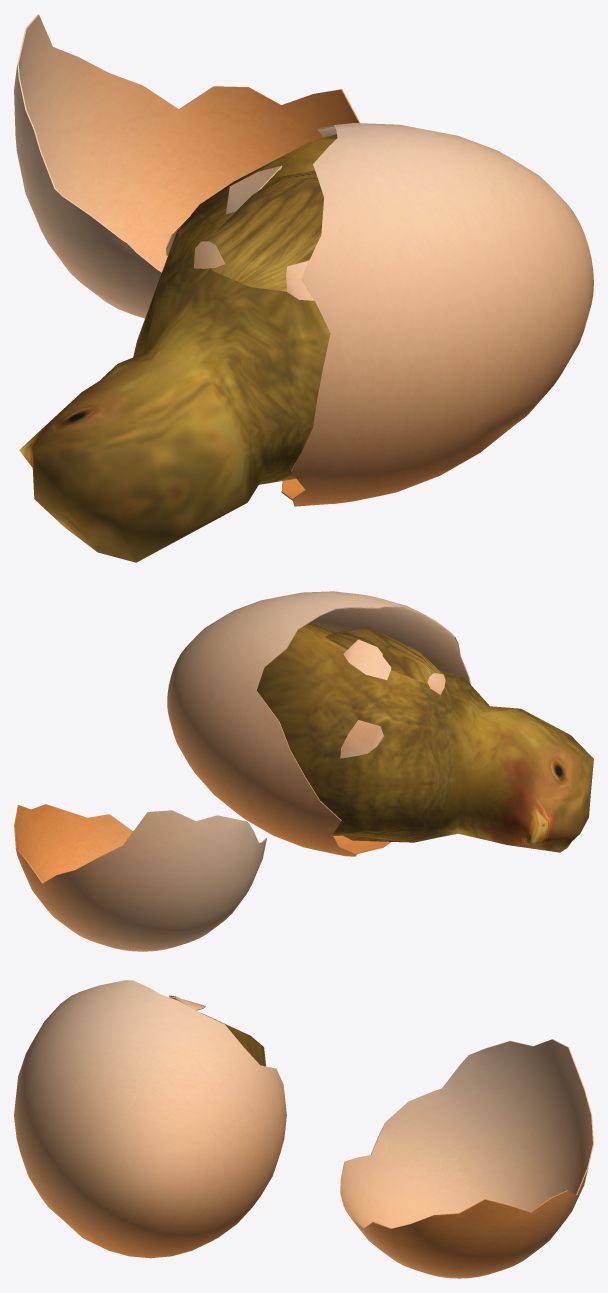
The model's file is jidan_04.FBX.
3 views of the same model, one above another, from view 1: azimuth 30°, elevation 25°; view 2: azimuth 150°, elevation 25°; view 3: azimuth 270°, elevation 25° (orthographic). The views are drawn at different scales.
Visible parts, largest first — view 1: jidan_04; view 2: jidan_04; view 3: jidan_04.
Part boxes in pixels (x1=…): jidan_04: x1=14, y1=14, x2=593, y2=562; jidan_04: x1=14, y1=591, x2=593, y2=951; jidan_04: x1=14, y1=980, x2=593, y2=1278.
Bounding box in the file's own units: 8.81 × 5.13 × 10.95.
